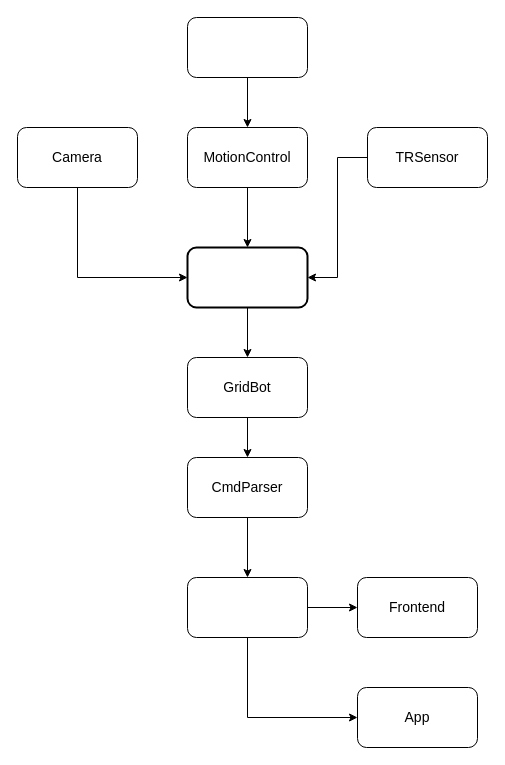
Image size: 505x765. Some labels were removed from this diagram. Each missing label, with the centre of its shape:
Alphabot: pixel 247 277
Backend: pixel 247 607
Motor: pixel 247 47
